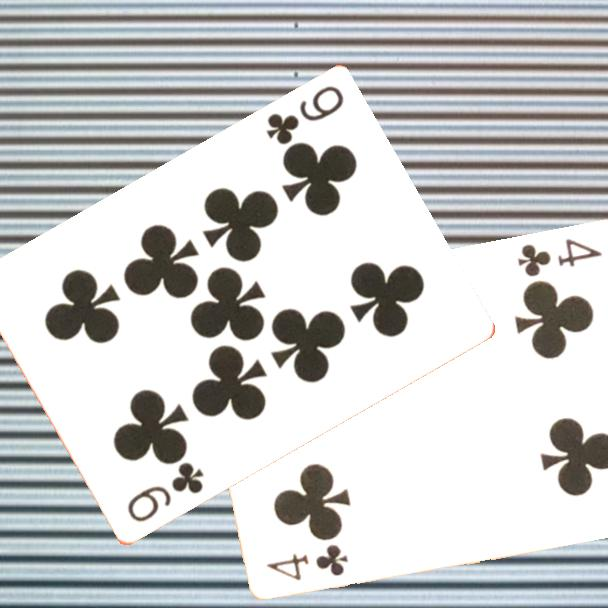c04: (514, 234, 605, 279), (263, 541, 352, 583)
c09: (262, 82, 347, 149), (123, 459, 207, 526)
